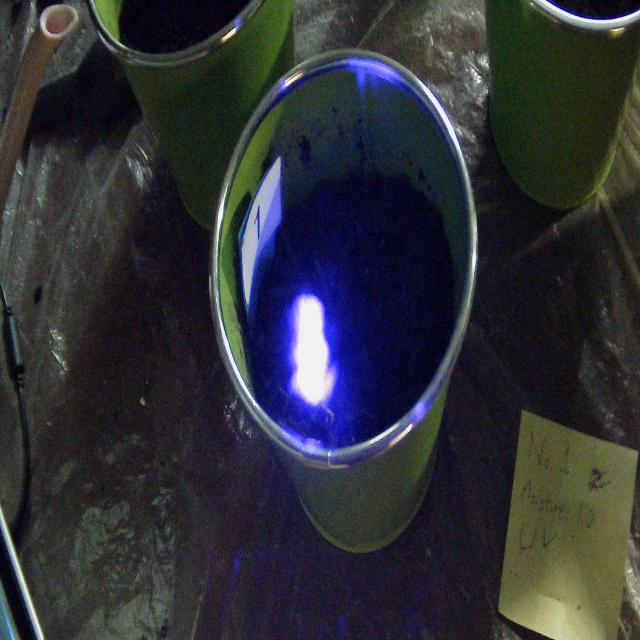soil-moisture-1.0: (286, 292, 338, 408)
